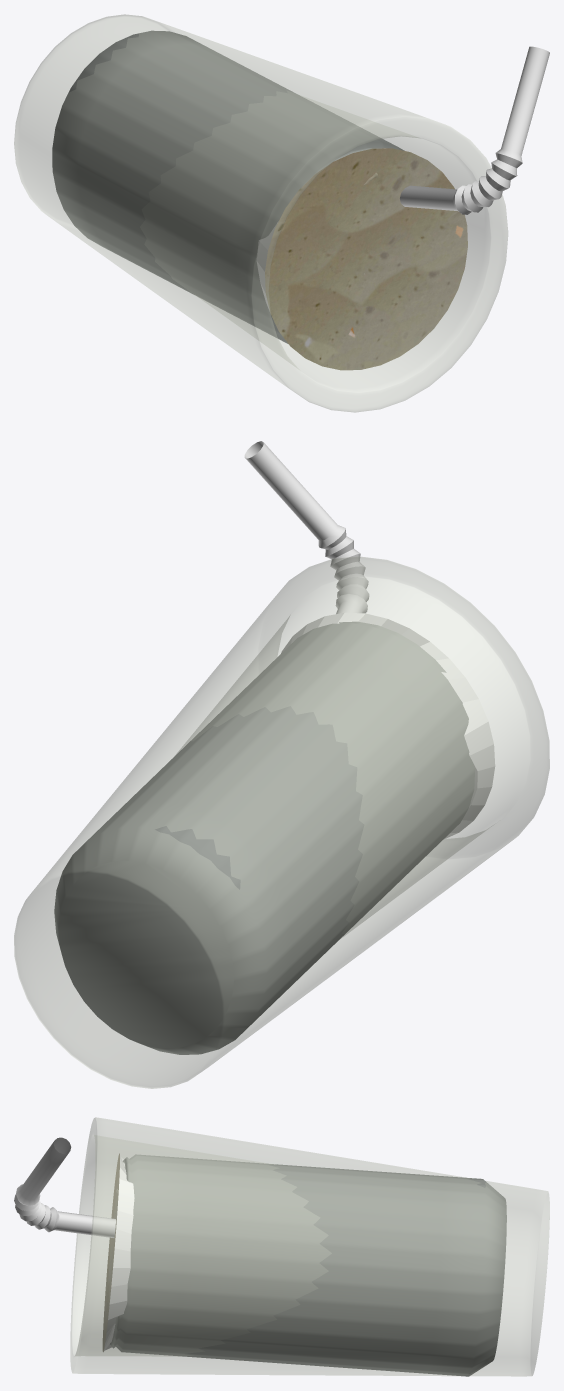
File: banana.glb
The picture shows the model from 3 angles, top to bottom: view 1: azimuth 30°, elevation 25°; view 2: azimuth 150°, elevation 25°; view 3: azimuth 270°, elevation 25°; orthographic projection. The views are drawn at different scales.
Visible parts, largest first — view 1: Vert.002, Cylinder, coffee.001, Vert.001; view 2: Vert.002, Cylinder, Vert.001, coffee.001; view 3: Vert.002, Cylinder, Vert.001, coffee.001.
Boxes of the visible parts, left/top/right/bottom form: Vert.002: left=14, top=14, right=507, bottom=412; Cylinder: left=52, top=30, right=404, bottom=343; coffee.001: left=256, top=148, right=467, bottom=370; Vert.001: left=400, top=46, right=549, bottom=214; Vert.002: left=14, top=556, right=549, bottom=1088; Cylinder: left=54, top=621, right=474, bottom=1054; Vert.001: left=244, top=441, right=369, bottom=613; coffee.001: left=281, top=612, right=495, bottom=839; Vert.002: left=70, top=1117, right=549, bottom=1376; Cylinder: left=110, top=1154, right=506, bottom=1376; Vert.001: left=14, top=1137, right=115, bottom=1237; coffee.001: left=102, top=1153, right=134, bottom=1351.
Size of the model in its own units: 12.15 by 13.9 by 22.92.
5 materials, 1 textured.
